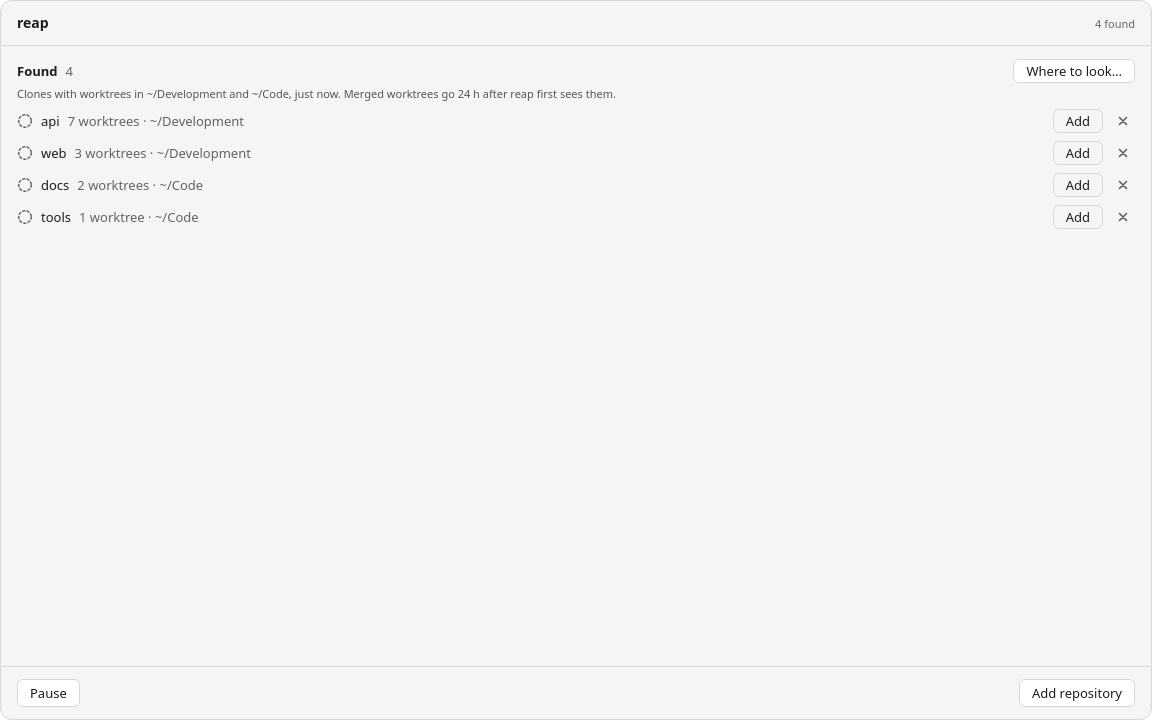
Test case: Popover Add and Skip › shows add's own error verbatim in the notice strip and keeps the row
The image size is (1152, 720).
Click the button "Add" in the row of "api".
click(1078, 121)  # box [1053,109,1103,133]
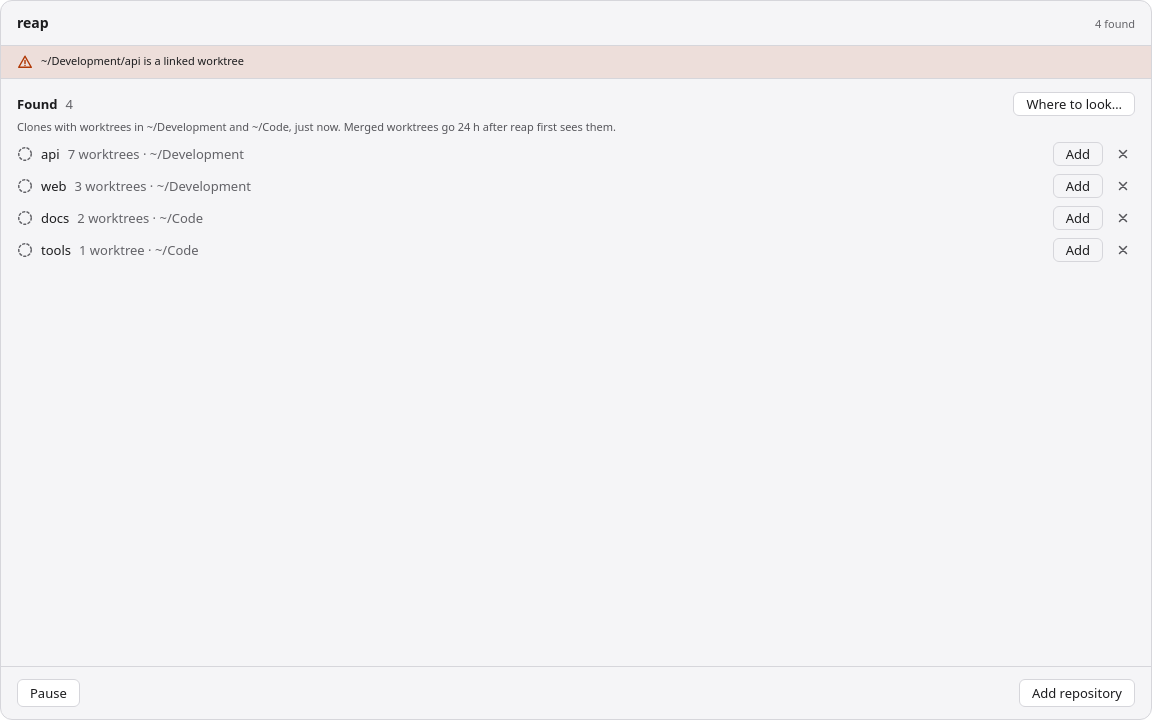
Expected: the text "api" is shown, [41,145,60,163]
Result: the message reads "~/Development/api is a linked worktree" at [41,53,244,68]
